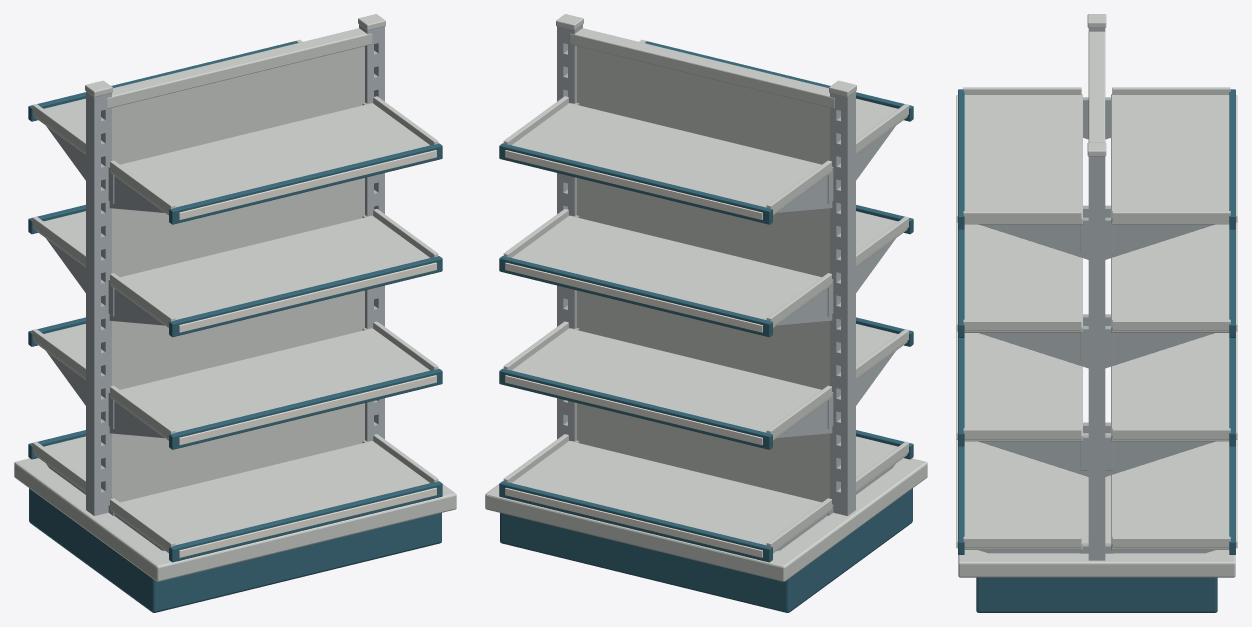
Rendered from city-retail-gondola-shelving.glb.
3 renders of one model, left to right at view 1: azimuth 30°, elevation 25°; view 2: azimuth 150°, elevation 25°; view 3: azimuth 270°, elevation 25°, orthographic. The views are drawn at different scales.
Parts seen in each view (by area): view 1: Assembly | Warm pale powder coating, Assembly | Deep petrol powder coating, Assembly | Brushed plain metal, Assembly | Blank opaque label inserts; view 2: Assembly | Warm pale powder coating, Assembly | Deep petrol powder coating, Assembly | Brushed plain metal, Assembly | Blank opaque label inserts; view 3: Assembly | Warm pale powder coating, Assembly | Brushed plain metal, Assembly | Deep petrol powder coating, Assembly | Blank opaque label inserts.
Part boxes in pixels (x1,y1,x2,y2): Assembly | Warm pale powder coating: (14,14,456,581); Assembly | Deep petrol powder coating: (28,41,442,612); Assembly | Brushed plain metal: (46,25,384,550); Assembly | Blank opaque label inserts: (179,150,436,557); Assembly | Warm pale powder coating: (485,14,927,581); Assembly | Deep petrol powder coating: (499,41,913,612); Assembly | Brushed plain metal: (557,25,895,550); Assembly | Blank opaque label inserts: (505,150,762,557); Assembly | Warm pale powder coating: (958,14,1235,577); Assembly | Brushed plain metal: (978,28,1215,560); Assembly | Deep petrol powder coating: (958,89,1235,612); Assembly | Blank opaque label inserts: (956,95,1237,548).
Bounding box in the file's own units: 1.29 × 1.97 × 1.08.
